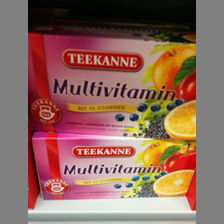tea: (28, 19, 196, 140), (33, 129, 195, 201)
